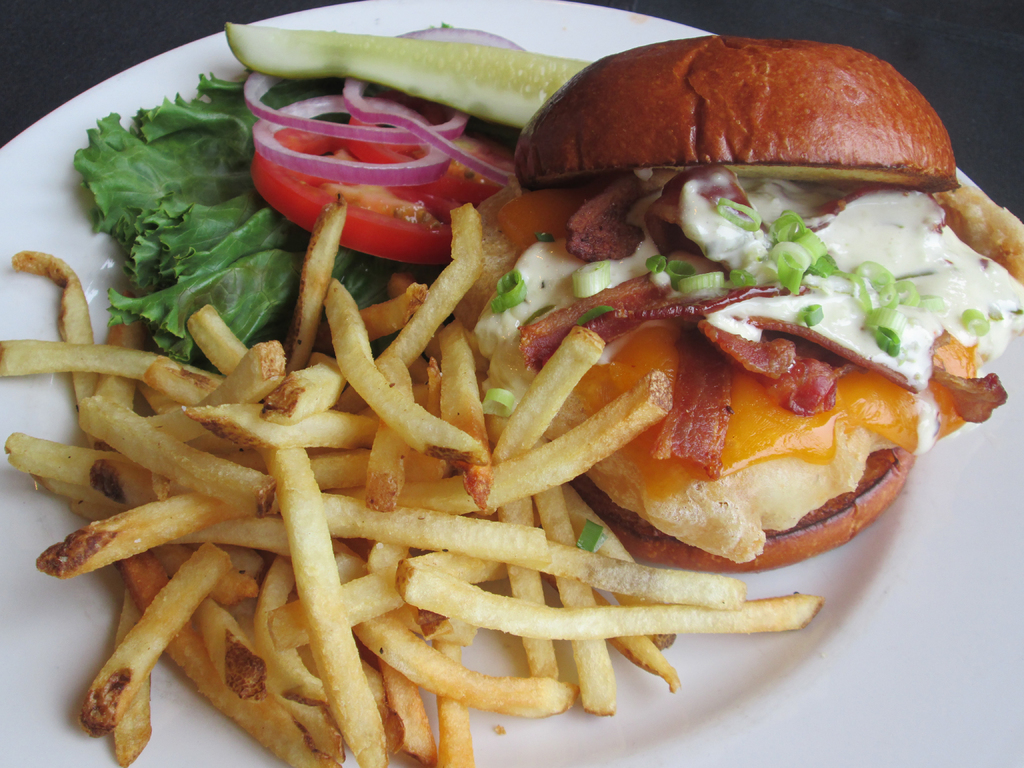French fries: (64, 182, 862, 747)
